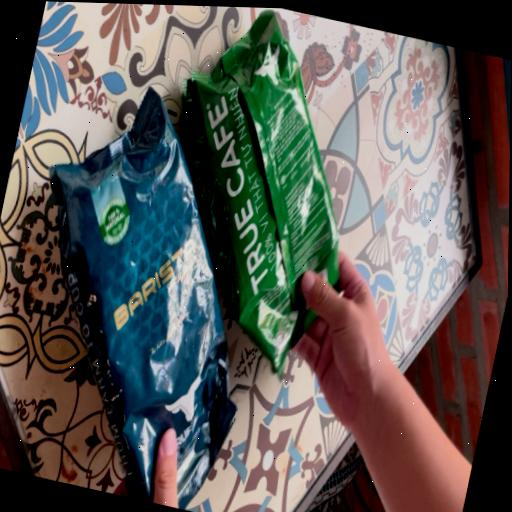cafe_hat: (49, 89, 236, 510)
cafe_xay: (182, 10, 338, 372)
